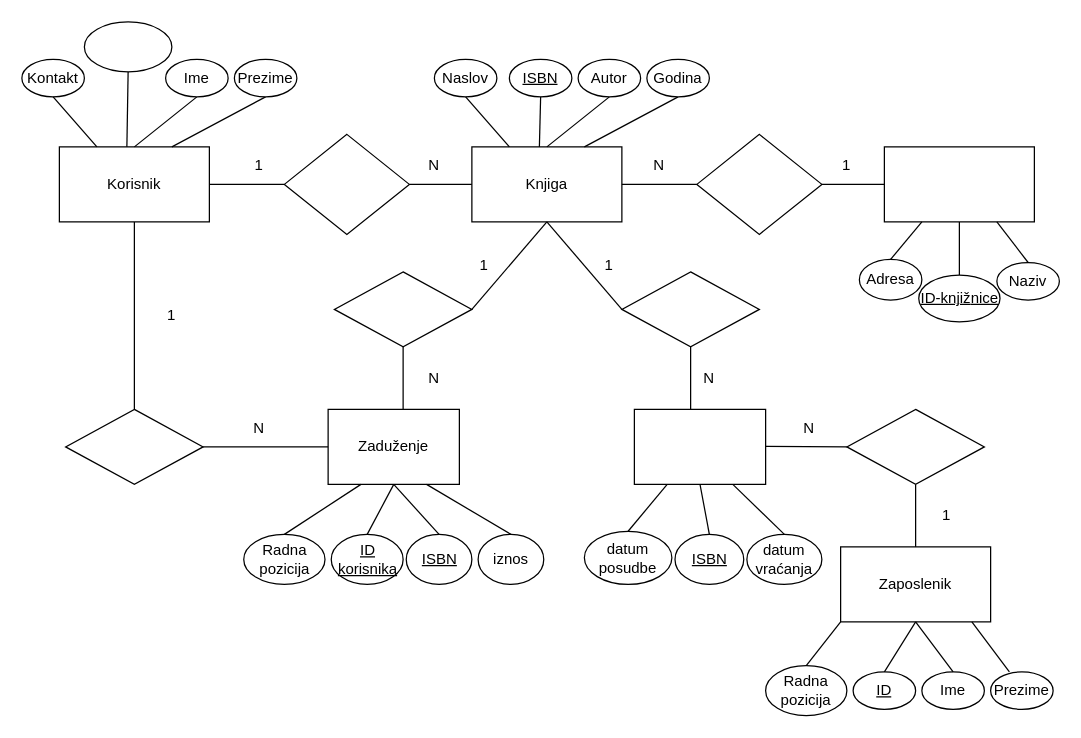
Some shapes in this 1081 by 738 pixel diagram are drawn without their labels. Here are the shapes that lost their labels. From the top down, the box of each, then its label:
(83, 21, 172, 72): ID-korisnika
(283, 133, 409, 234): Posuđuje
(696, 133, 822, 234): Ima
(883, 146, 1034, 222): Knjižnica
(333, 271, 472, 347): Pripada
(621, 271, 759, 347): Posuđena
(64, 408, 203, 484): Duguje
(633, 408, 766, 484): Posudba
(846, 408, 984, 484): Obrađuje
